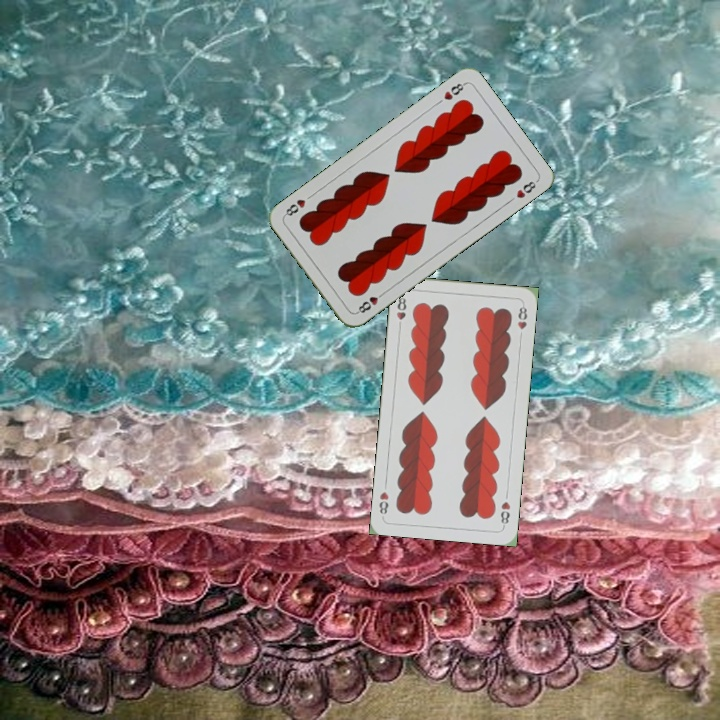H8: (352, 288, 388, 316), (440, 79, 468, 103), (393, 291, 409, 331), (497, 497, 513, 529)
